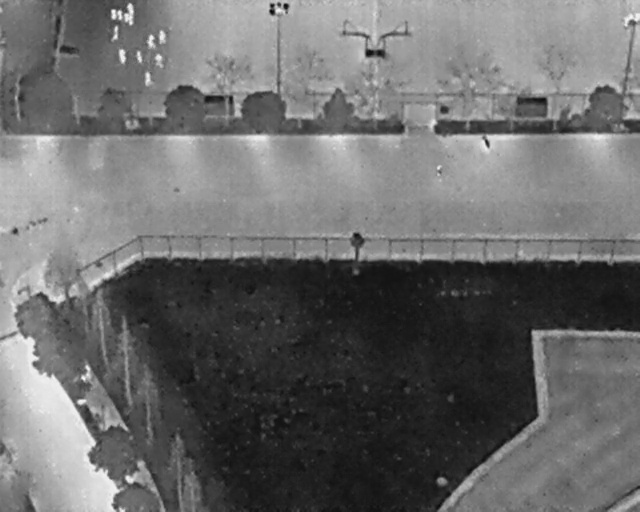Person: (155, 53, 164, 68), (159, 30, 166, 44), (144, 71, 151, 85), (127, 3, 134, 15), (147, 40, 156, 49), (111, 8, 117, 20), (136, 50, 142, 62), (118, 49, 125, 59), (123, 12, 129, 23), (117, 9, 123, 20), (110, 34, 118, 42), (128, 15, 133, 25), (148, 34, 155, 41), (114, 25, 119, 34), (121, 56, 126, 64)
